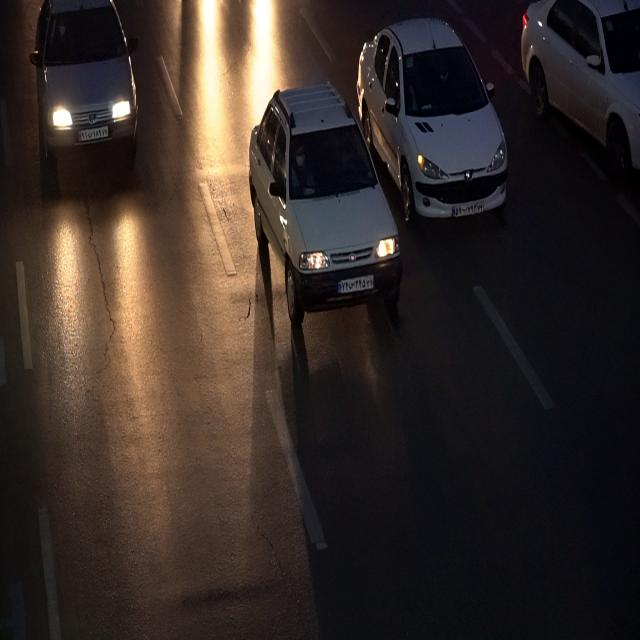car: (246, 84, 402, 311), (356, 20, 512, 231), (519, 0, 640, 164), (31, 0, 138, 172)
